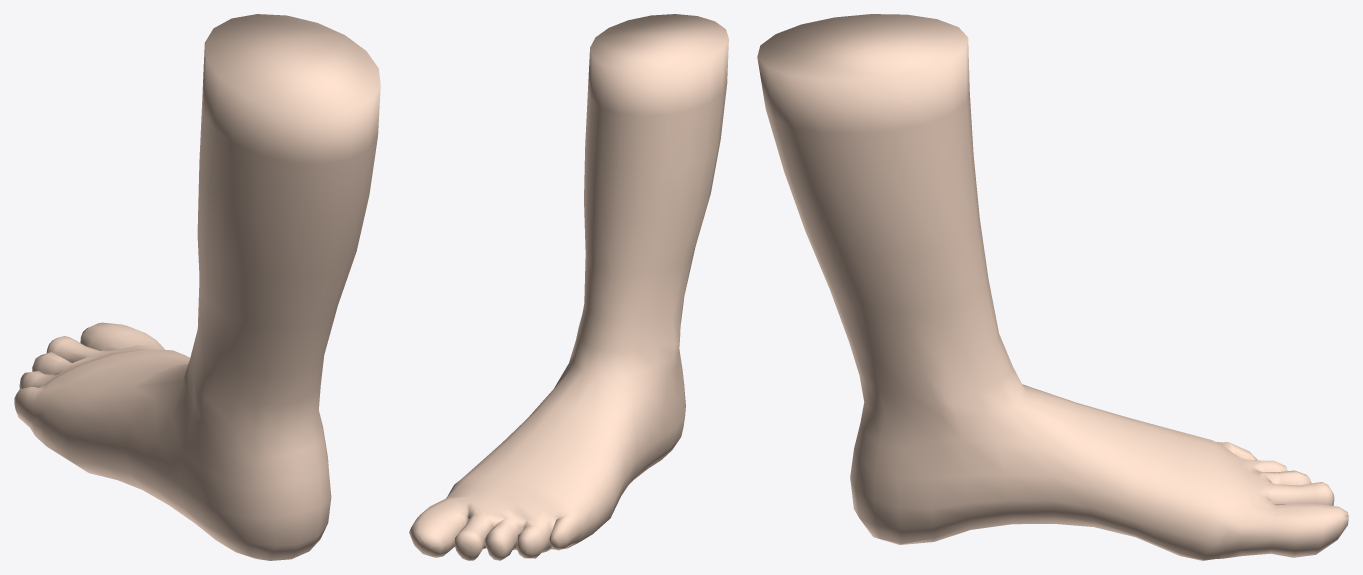
File: Piede SX.fbx
3 views of the same model, side by side, from view 1: azimuth 30°, elevation 25°; view 2: azimuth 150°, elevation 25°; view 3: azimuth 270°, elevation 25° (orthographic). The views are drawn at different scales.
Parts seen in each view (by area): view 1: Piede.001; view 2: Piede.001; view 3: Piede.001.
Part boxes in pixels (bbox=[...]): Piede.001: bbox=[14, 14, 380, 560]; Piede.001: bbox=[409, 14, 728, 560]; Piede.001: bbox=[757, 14, 1348, 560].
Size of the model in its own units: 250 by 715 by 770.
